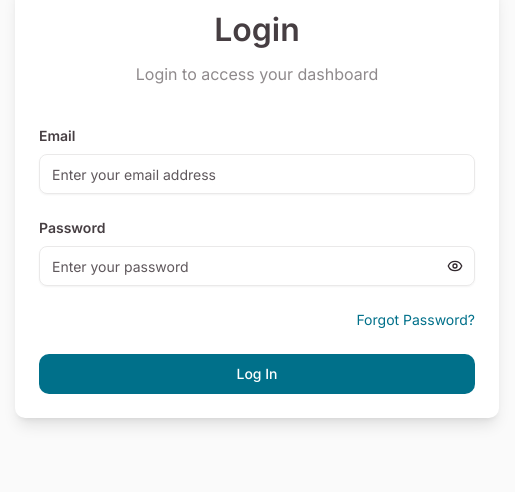
LoginForm › shows validation errors for empty fields
Click the button "Log In". click: point(257, 374)
box: [39,354,475,394]
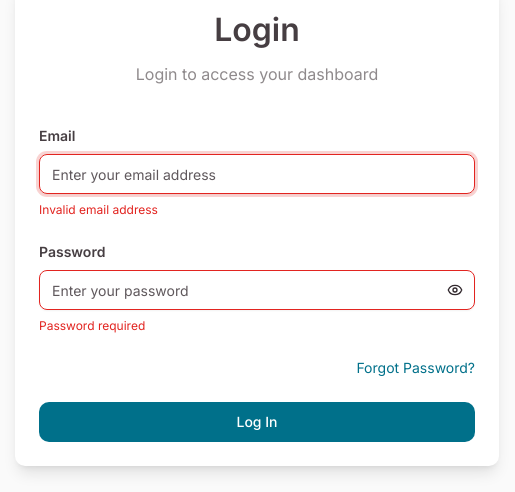
Check: the text "Invalid email address" is shown, box [39,202,158,217]
Check: the text "Password required" is shown, box [39,318,145,333]
